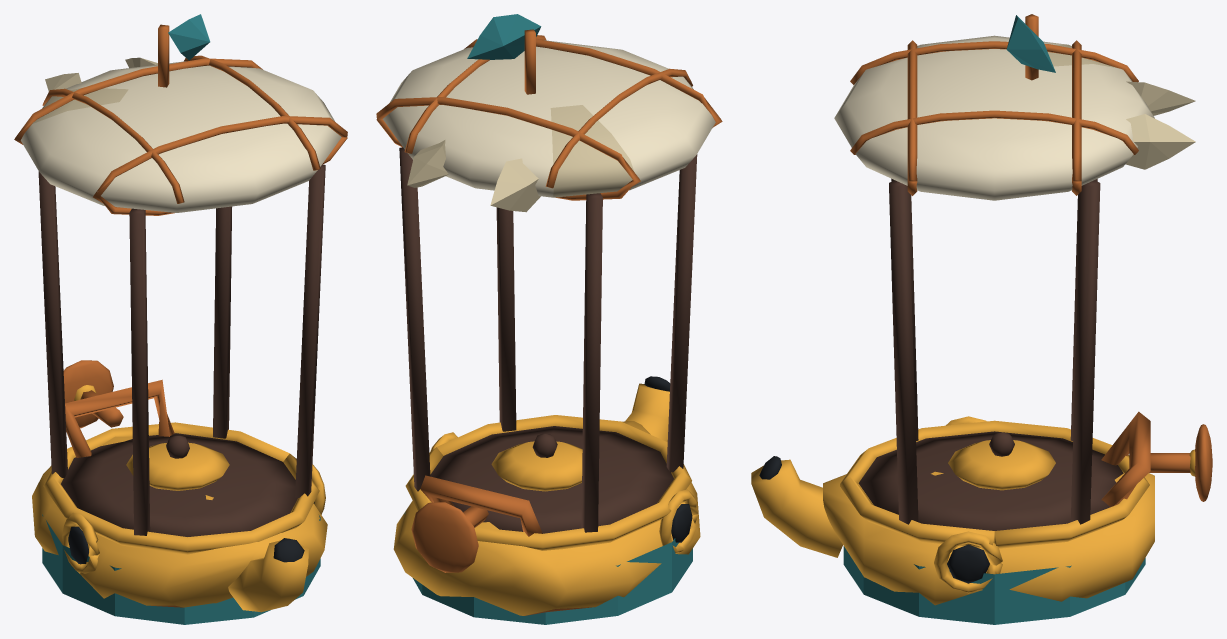
Rendered from copperskiff.glb.
3 views of the same model, side by side, from view 1: azimuth 30°, elevation 25°; view 2: azimuth 150°, elevation 25°; view 3: azimuth 270°, elevation 25° (orthographic). The views are drawn at different scales.
Visible parts, largest first — view 1: ME_20261020_copperskiff_sewn_canvas_envelope, ME_20261020_copperskiff_dark_open_deck, ME_20261020_copperskiff_copper_kettle_shell, ME_20261020_copperskiff_copper_gunwale, ME_20261020_copperskiff_port_suspension_0, ME_20261020_copperskiff_starboard_suspension_0, ME_20261020_copperskiff_port_suspension_1, ME_20261020_copperskiff_team_hull_belt, ME_20261020_copperskiff_starboard_suspension_1, ME_20261020_copperskiff_curved_kettle_spout, ME_20261020_copperskiff_kettle_lid, ME_20261020_copperskiff_copper_sail_strap_0 (+12 smaller); view 2: ME_20261020_copperskiff_sewn_canvas_envelope, ME_20261020_copperskiff_copper_kettle_shell, ME_20261020_copperskiff_dark_open_deck, ME_20261020_copperskiff_copper_gunwale, ME_20261020_copperskiff_port_suspension_1, ME_20261020_copperskiff_starboard_suspension_1, ME_20261020_copperskiff_port_suspension_0, ME_20261020_copperskiff_team_hull_belt, ME_20261020_copperskiff_starboard_suspension_0, ME_20261020_copperskiff_pusher_disc, ME_20261020_copperskiff_kettle_lid, ME_20261020_copperskiff_copper_sail_strap_1 (+12 smaller); view 3: ME_20261020_copperskiff_sewn_canvas_envelope, ME_20261020_copperskiff_copper_kettle_shell, ME_20261020_copperskiff_dark_open_deck, ME_20261020_copperskiff_copper_gunwale, ME_20261020_copperskiff_team_hull_belt, ME_20261020_copperskiff_starboard_suspension_0, ME_20261020_copperskiff_starboard_suspension_1, ME_20261020_copperskiff_curved_kettle_spout, ME_20261020_copperskiff_kettle_lid, ME_20261020_copperskiff_kettle_handle, ME_20261020_copperskiff_copper_longitudinal_strap_1, ME_20261020_copperskiff_tail_fin_1 (+11 smaller).
Part boxes in pixels (x1,y1,x2,y2): ME_20261020_copperskiff_sewn_canvas_envelope: (20,61,341,212); ME_20261020_copperskiff_dark_open_deck: (61,433,297,536); ME_20261020_copperskiff_copper_kettle_shell: (32,436,327,607); ME_20261020_copperskiff_copper_gunwale: (43,422,319,554); ME_20261020_copperskiff_port_suspension_0: (129,208,150,535); ME_20261020_copperskiff_starboard_suspension_0: (295,164,325,497); ME_20261020_copperskiff_port_suspension_1: (38,171,67,477); ME_20261020_copperskiff_team_hull_belt: (42,514,320,624); ME_20261020_copperskiff_starboard_suspension_1: (213,206,232,438); ME_20261020_copperskiff_curved_kettle_spout: (228,538,308,612); ME_20261020_copperskiff_kettle_lid: (126,442,229,490); ME_20261020_copperskiff_copper_sail_strap_0: (93,116,347,215); ME_20261020_copperskiff_sewn_canvas_envelope: (383,40,715,197); ME_20261020_copperskiff_copper_kettle_shell: (393,421,700,615); ME_20261020_copperskiff_dark_open_deck: (430,426,673,533); ME_20261020_copperskiff_copper_gunwale: (405,415,691,550); ME_20261020_copperskiff_port_suspension_1: (581,193,602,532); ME_20261020_copperskiff_starboard_suspension_1: (399,147,430,491); ME_20261020_copperskiff_port_suspension_0: (666,154,697,472); ME_20261020_copperskiff_team_hull_belt: (404,512,692,624); ME_20261020_copperskiff_starboard_suspension_0: (496,207,516,431); ME_20261020_copperskiff_pusher_disc: (411,502,478,572); ME_20261020_copperskiff_kettle_lid: (491,441,582,491); ME_20261020_copperskiff_copper_sail_strap_1: (376,97,640,200); ME_20261020_copperskiff_sewn_canvas_envelope: (834,35,1154,200); ME_20261020_copperskiff_copper_kettle_shell: (823,471,1154,605); ME_20261020_copperskiff_dark_open_deck: (858,431,1123,530); ME_20261020_copperskiff_copper_gunwale: (840,420,1149,548); ME_20261020_copperskiff_team_hull_belt: (843,546,1145,624); ME_20261020_copperskiff_starboard_suspension_0: (889,180,918,524); ME_20261020_copperskiff_starboard_suspension_1: (1070,180,1100,524); ME_20261020_copperskiff_curved_kettle_spout: (751,459,842,557); ME_20261020_copperskiff_kettle_lid: (948,440,1055,490); ME_20261020_copperskiff_kettle_handle: (1101,411,1150,506); ME_20261020_copperskiff_copper_longitudinal_strap_1: (850,110,1138,154); ME_20261020_copperskiff_tail_fin_1: (1125,114,1195,169).
Bounding box in the file's own units: 0.92 × 1.71 × 1.24.
